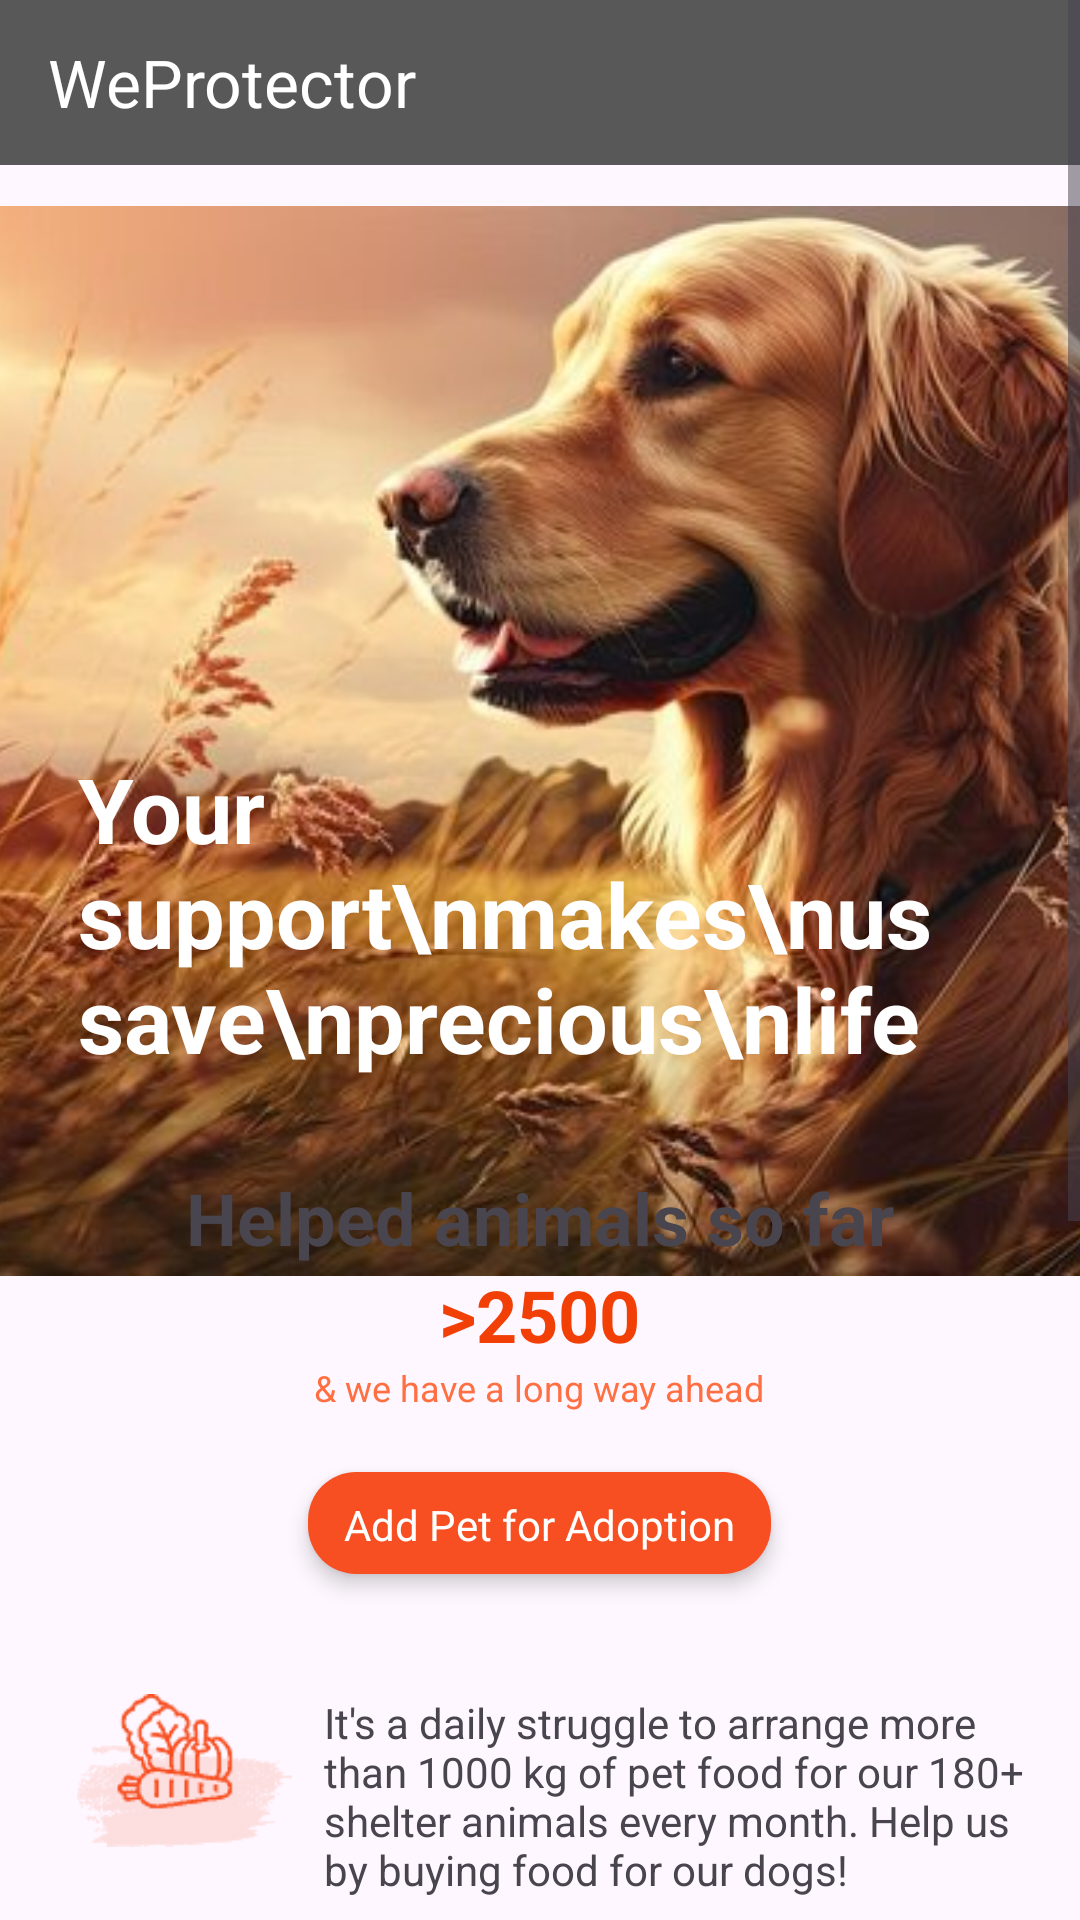

Screen size 1080px x 1920px. Icon name, then its center in pixels as (x,y):
carrot: (185,1770)
